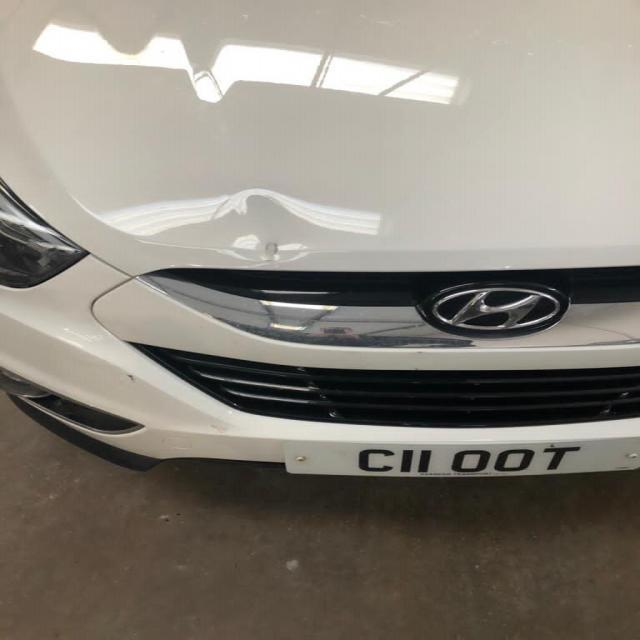bonnet-dent: (0, 1, 639, 306)
